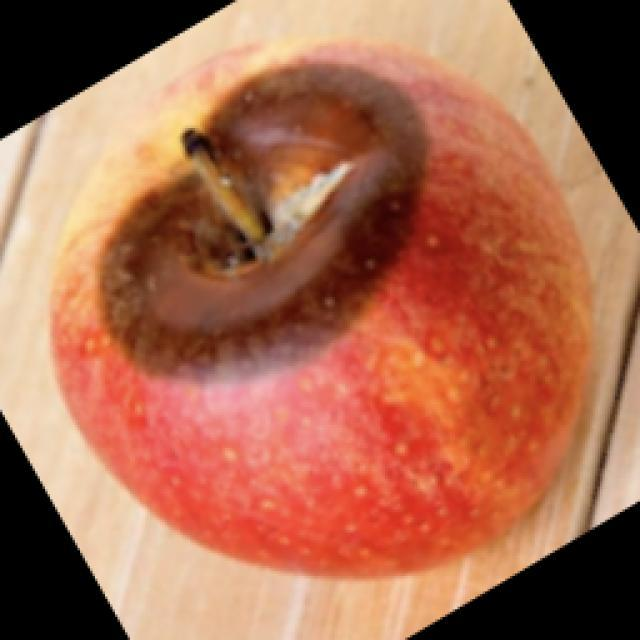Rotten: (68, 35, 605, 578)
